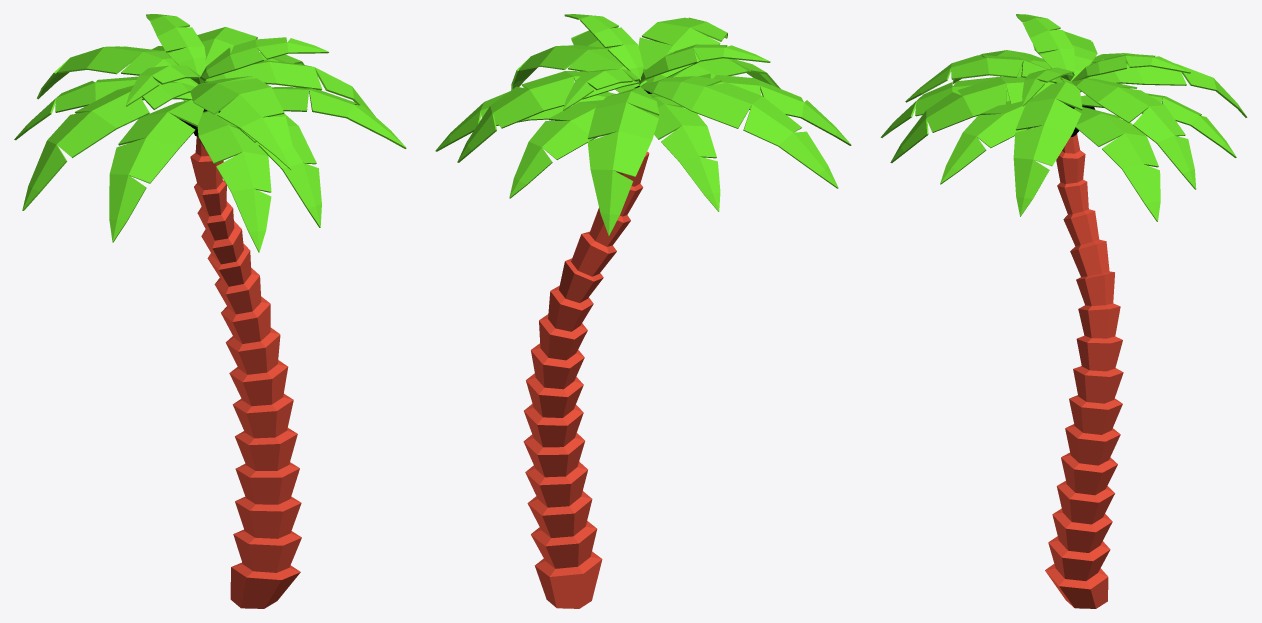
Rendered from Palm_1.fbx.
3 renders of one model, left to right at view 1: azimuth 30°, elevation 25°; view 2: azimuth 150°, elevation 25°; view 3: azimuth 270°, elevation 25°, orthographic. The views are drawn at different scales.
Parts seen in each view (by area): view 1: Palm_1; view 2: Palm_1; view 3: Palm_1.
Boxes of the visible parts, x1=… form: Palm_1: x1=14, y1=14, x2=406, y2=608; Palm_1: x1=435, y1=14, x2=851, y2=608; Palm_1: x1=880, y1=14, x2=1247, y2=608.
Bounding box in the file's own units: 2.74 × 4.29 × 2.72.
